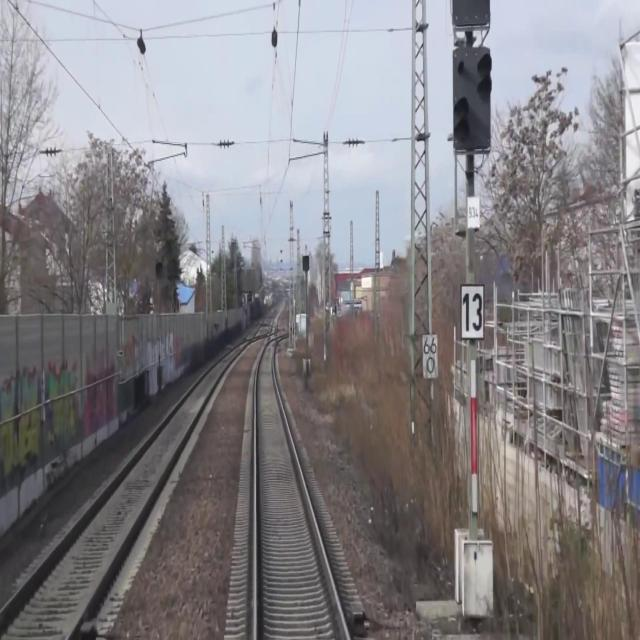rail-track: (0, 346, 242, 639), (257, 341, 346, 639)
